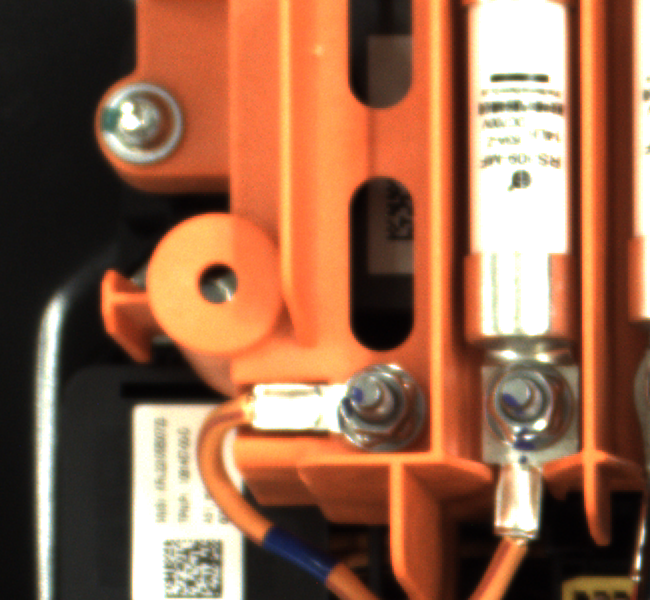screw_m: (84, 77, 194, 169)
screw_s: (334, 367, 444, 461), (480, 357, 572, 460)
